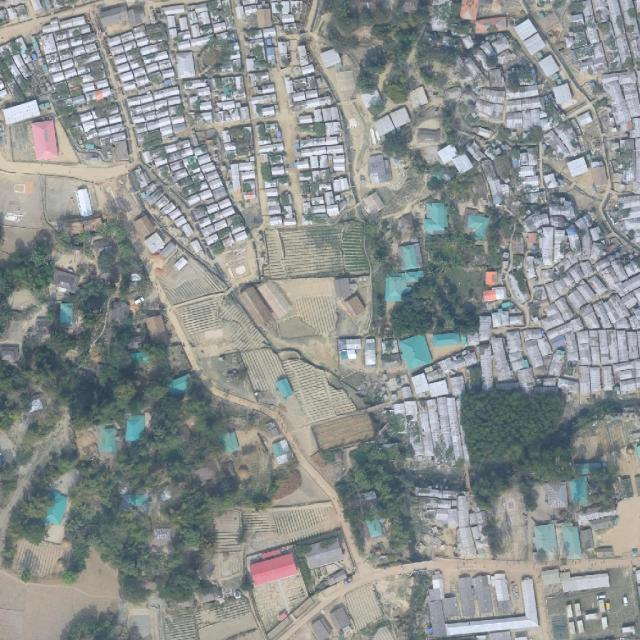agricultural_land: (269, 275, 372, 373), (175, 290, 267, 361), (238, 493, 340, 553), (174, 295, 270, 354), (162, 597, 257, 640), (198, 346, 257, 413), (240, 341, 289, 396), (342, 360, 393, 412), (373, 569, 423, 620), (209, 511, 244, 579), (215, 239, 262, 289), (294, 293, 340, 339), (342, 583, 384, 631), (273, 504, 333, 537), (197, 612, 258, 640), (280, 274, 336, 303), (264, 227, 287, 280), (211, 576, 254, 602), (278, 315, 318, 339), (241, 512, 276, 532)
building: (124, 126, 252, 273), (381, 328, 640, 400), (517, 207, 640, 349), (29, 8, 134, 174), (521, 198, 640, 337), (280, 70, 358, 226), (104, 18, 193, 146), (407, 464, 509, 571), (425, 565, 539, 638), (529, 474, 621, 562), (388, 392, 469, 471), (242, 550, 315, 632), (147, 237, 229, 308), (126, 84, 192, 151), (474, 264, 527, 335), (0, 33, 52, 104), (559, 0, 606, 69), (184, 76, 250, 124), (219, 124, 256, 201), (457, 571, 511, 617), (336, 335, 404, 371), (0, 0, 94, 26), (236, 283, 279, 332), (248, 552, 299, 587), (98, 1, 147, 37), (257, 278, 294, 320), (248, 70, 279, 119), (372, 104, 413, 138), (302, 537, 344, 570), (264, 186, 296, 228), (397, 334, 433, 371), (422, 524, 458, 558), (31, 119, 60, 161), (8, 121, 36, 164), (260, 152, 290, 188), (1, 99, 41, 126), (423, 201, 451, 236), (502, 272, 530, 306), (44, 490, 69, 527), (521, 577, 538, 624), (130, 212, 158, 240), (397, 242, 424, 271), (51, 268, 81, 293), (368, 153, 391, 184), (359, 190, 385, 217), (383, 274, 408, 302), (256, 121, 283, 146), (74, 186, 95, 218), (271, 438, 295, 466), (166, 374, 195, 397), (329, 604, 353, 631), (125, 413, 146, 442), (142, 231, 167, 255), (388, 106, 412, 129), (322, 568, 349, 588), (468, 215, 489, 239), (431, 332, 462, 348), (319, 48, 342, 69), (221, 430, 241, 454), (98, 424, 115, 452), (4, 201, 26, 222), (6, 4, 29, 24), (440, 596, 460, 619), (177, 54, 196, 78), (365, 516, 384, 539), (58, 302, 74, 325), (159, 241, 178, 259), (1, 344, 19, 362), (264, 420, 281, 439), (130, 350, 149, 365), (511, 240, 525, 255), (296, 45, 309, 60), (260, 146, 283, 154), (300, 64, 315, 76), (276, 611, 288, 622), (13, 183, 24, 193), (145, 412, 151, 427)
dryland: (0, 548, 127, 640), (156, 252, 228, 307), (45, 175, 82, 221), (99, 184, 143, 220), (142, 231, 167, 255)
greenland: (0, 265, 183, 481), (100, 375, 242, 527), (456, 376, 587, 505), (321, 0, 455, 102), (380, 261, 492, 373), (115, 481, 214, 601), (333, 440, 417, 557), (391, 231, 482, 338), (65, 498, 156, 605), (379, 120, 467, 204), (84, 217, 147, 293), (440, 204, 510, 271), (232, 459, 307, 516), (362, 218, 405, 316), (381, 165, 431, 227), (61, 501, 93, 580), (364, 532, 430, 567), (13, 404, 64, 449), (16, 390, 56, 432), (477, 514, 510, 558), (441, 189, 495, 212), (352, 614, 393, 640), (463, 168, 489, 201), (413, 611, 435, 632), (185, 546, 200, 553), (379, 555, 388, 560)
unmetalled_road: (295, 447, 372, 571), (283, 436, 355, 528), (333, 68, 379, 202), (0, 154, 128, 184), (209, 386, 260, 412), (446, 613, 512, 633), (291, 424, 323, 461), (286, 593, 321, 623), (619, 496, 640, 539), (560, 560, 624, 572), (266, 618, 293, 640), (284, 494, 299, 507)
